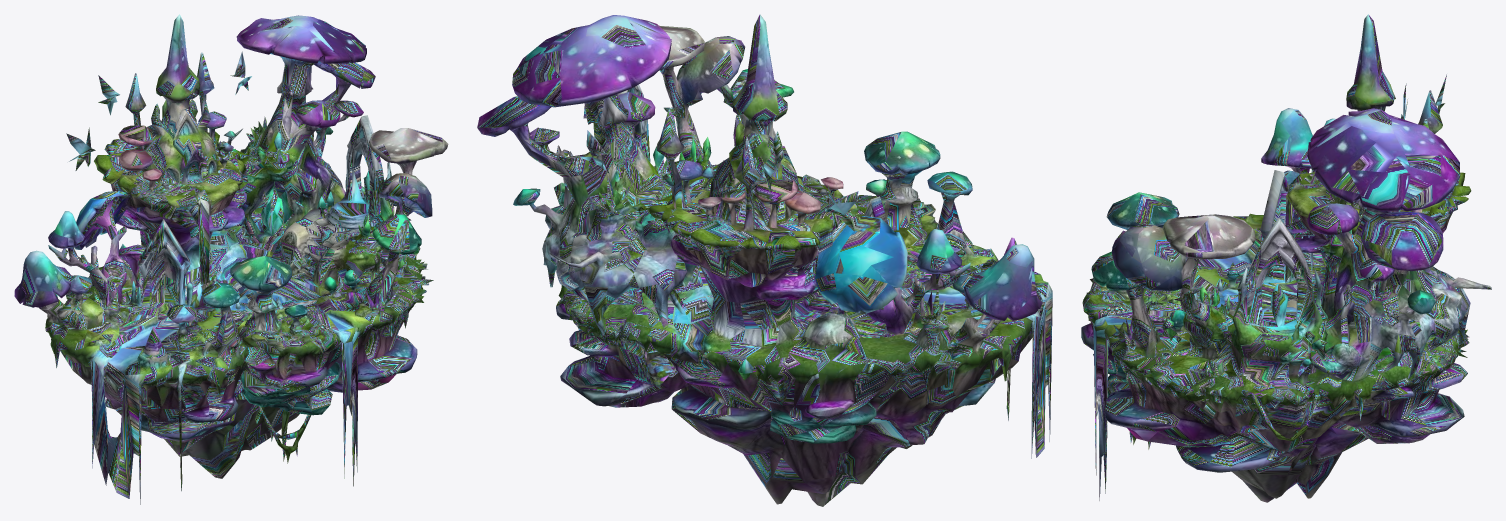
Rendered from Floating_Isle_of_Biol.glb.
3 views of the same model, side by side, from view 1: azimuth 30°, elevation 25°; view 2: azimuth 150°, elevation 25°; view 3: azimuth 270°, elevation 25° (orthographic). The views are drawn at different scales.
Parts seen in each view (by area): view 1: Floating_Isle_of_Biol; view 2: Floating_Isle_of_Biol; view 3: Floating_Isle_of_Biol.
Part boxes in pixels (bbox=[...]): Floating_Isle_of_Biol: bbox=[14, 14, 448, 504]; Floating_Isle_of_Biol: bbox=[477, 14, 1052, 506]; Floating_Isle_of_Biol: bbox=[1081, 14, 1491, 502].
Bounding box in the file's own units: 1.86 × 1.9 × 1.44.
Materials: 1 (1 with a texture image).
